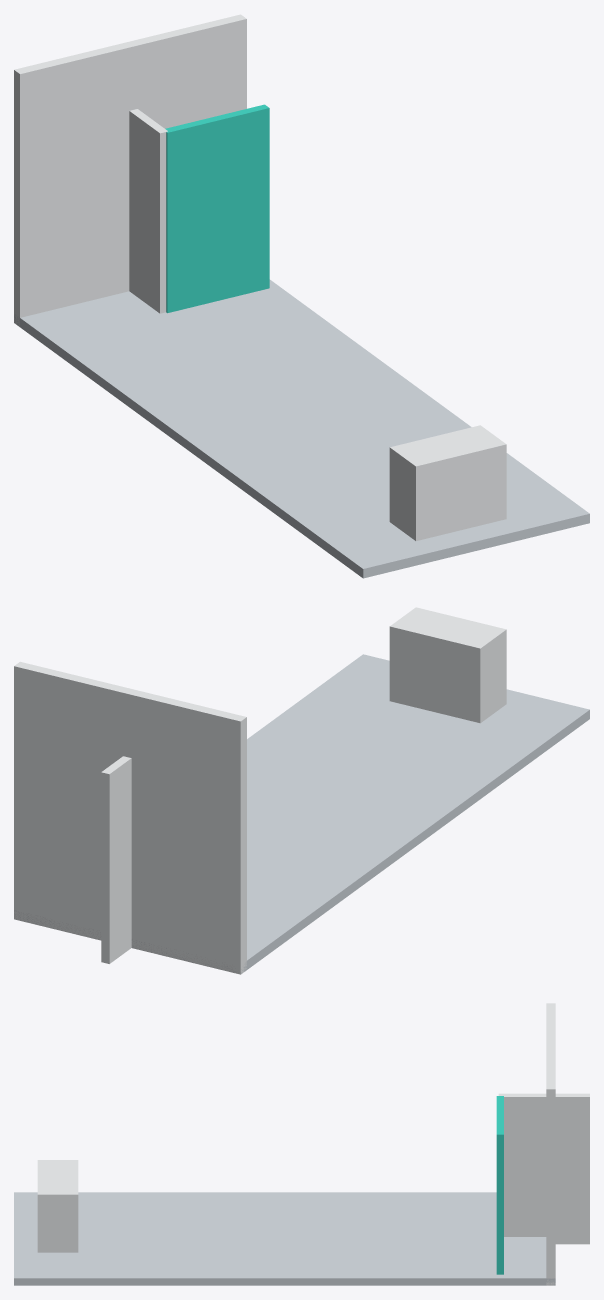
The picture shows the model from 3 angles, top to bottom: view 1: azimuth 30°, elevation 25°; view 2: azimuth 150°, elevation 25°; view 3: azimuth 270°, elevation 25°; orthographic projection. The views are drawn at different scales.
Visible parts, largest first — view 1: Exhibition Booth Concept; view 2: Exhibition Booth Concept; view 3: Exhibition Booth Concept.
Part boxes in pixels (bbox=[...]): Exhibition Booth Concept: bbox=[14, 14, 589, 578]; Exhibition Booth Concept: bbox=[14, 607, 589, 974]; Exhibition Booth Concept: bbox=[14, 1003, 589, 1285].
Bounding box in the file's own units: 3 × 3.2 × 8.51.
